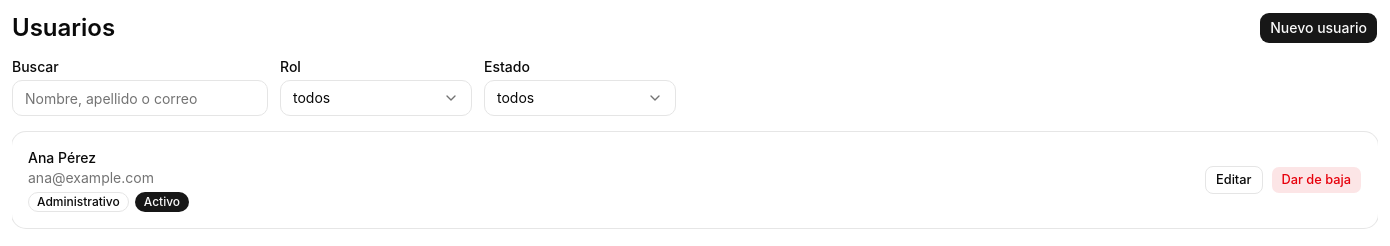
UsersPage › reconciles the baja locally when a retry lands on an already-inactive conflict
Expected: the text "Ana Pérez" is shown, [28, 149, 96, 166]
Click the button "Dar de baja": (1316, 180) [1270, 166, 1362, 194]
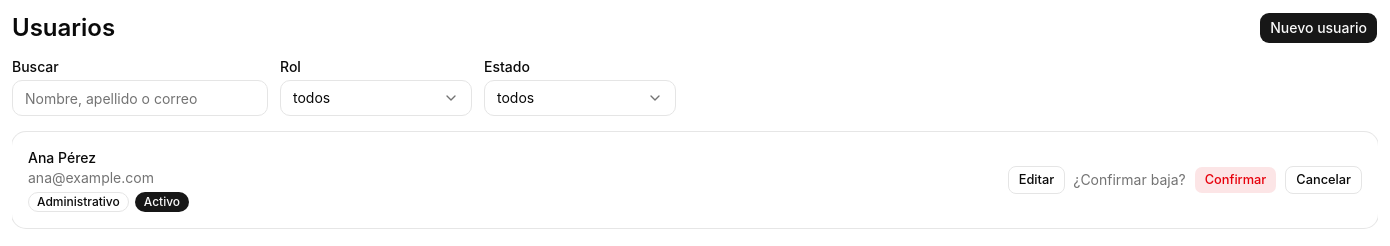
Click the button "Confirmar": (1236, 180) [1194, 166, 1277, 194]
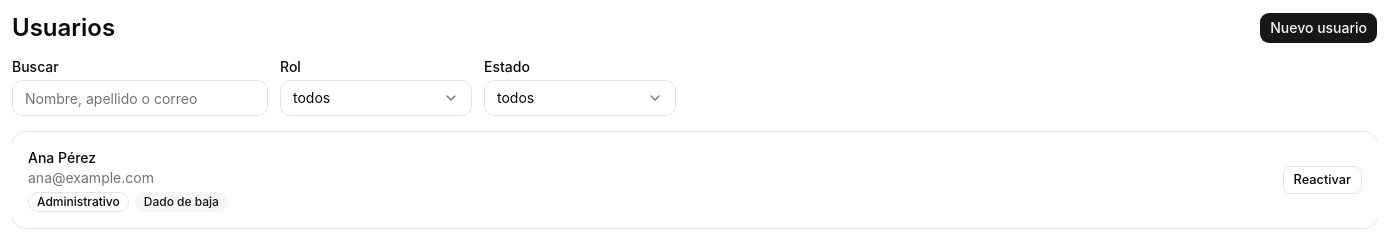
Expected: the text "Dado de baja" is shown, [135, 192, 228, 212]
